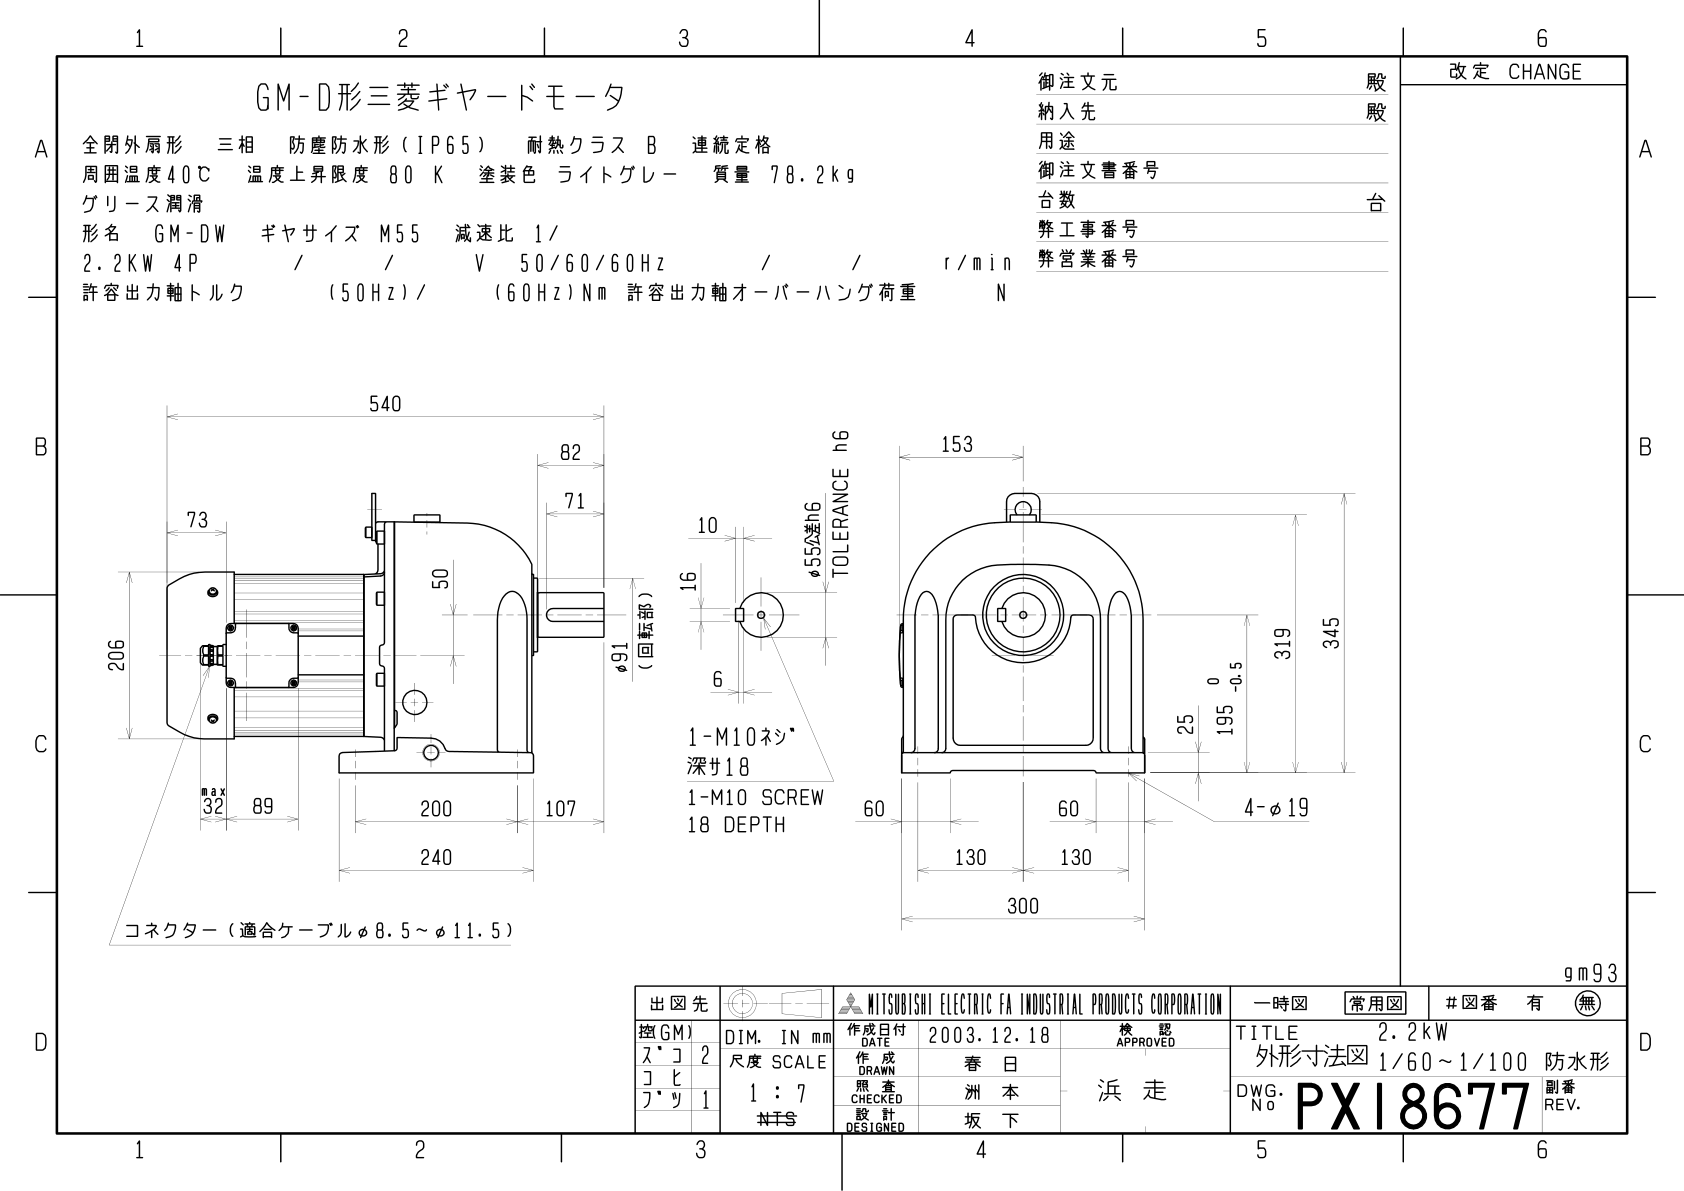GM_D_IP65_三相_脚: (15, 14, 1684, 1191)
